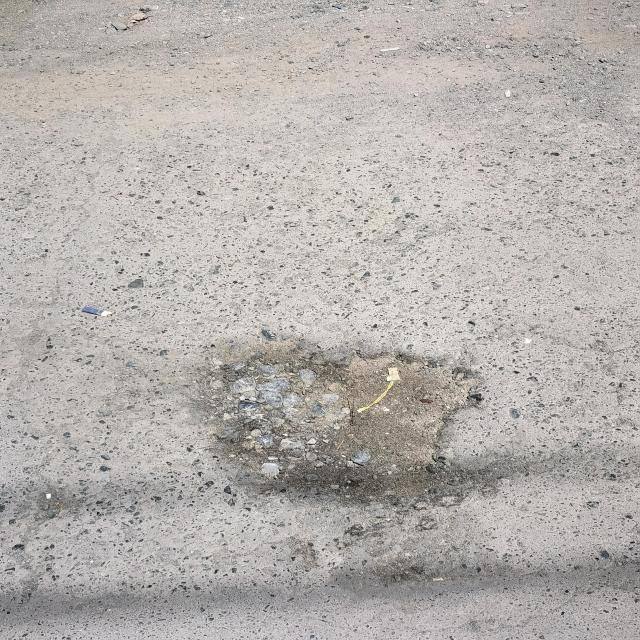Pothole: (195, 336, 490, 506)
